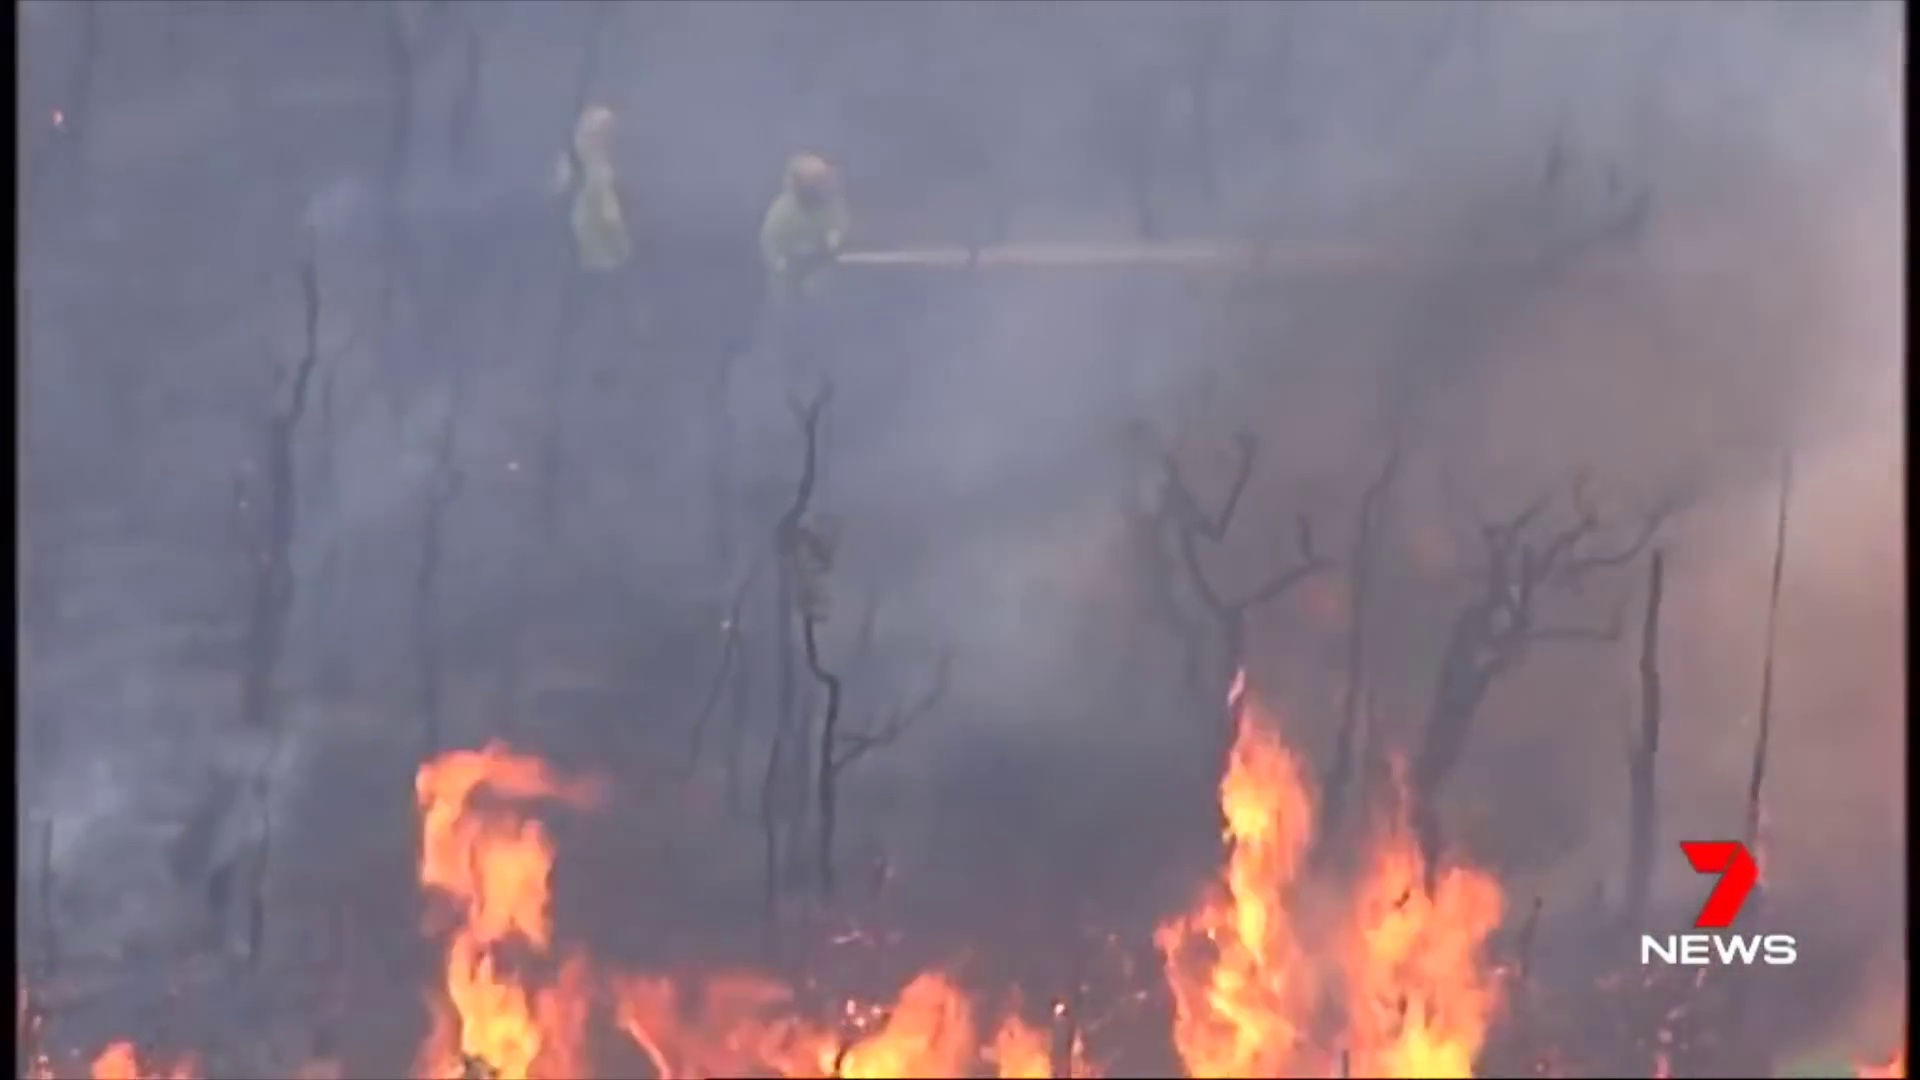fire: (1166, 727, 1487, 1080), (415, 746, 563, 1080), (816, 954, 1055, 1080)
